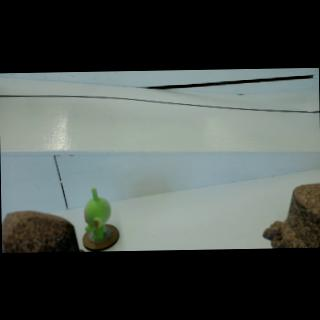teletubby: (84, 188, 110, 241)
